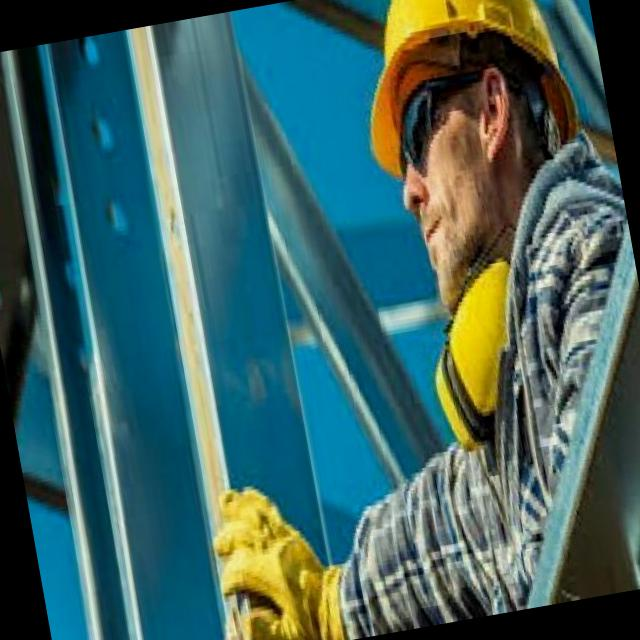gloves: (174, 454, 372, 640)
helmet: (341, 0, 583, 188)
no-vest: (398, 139, 640, 617)
